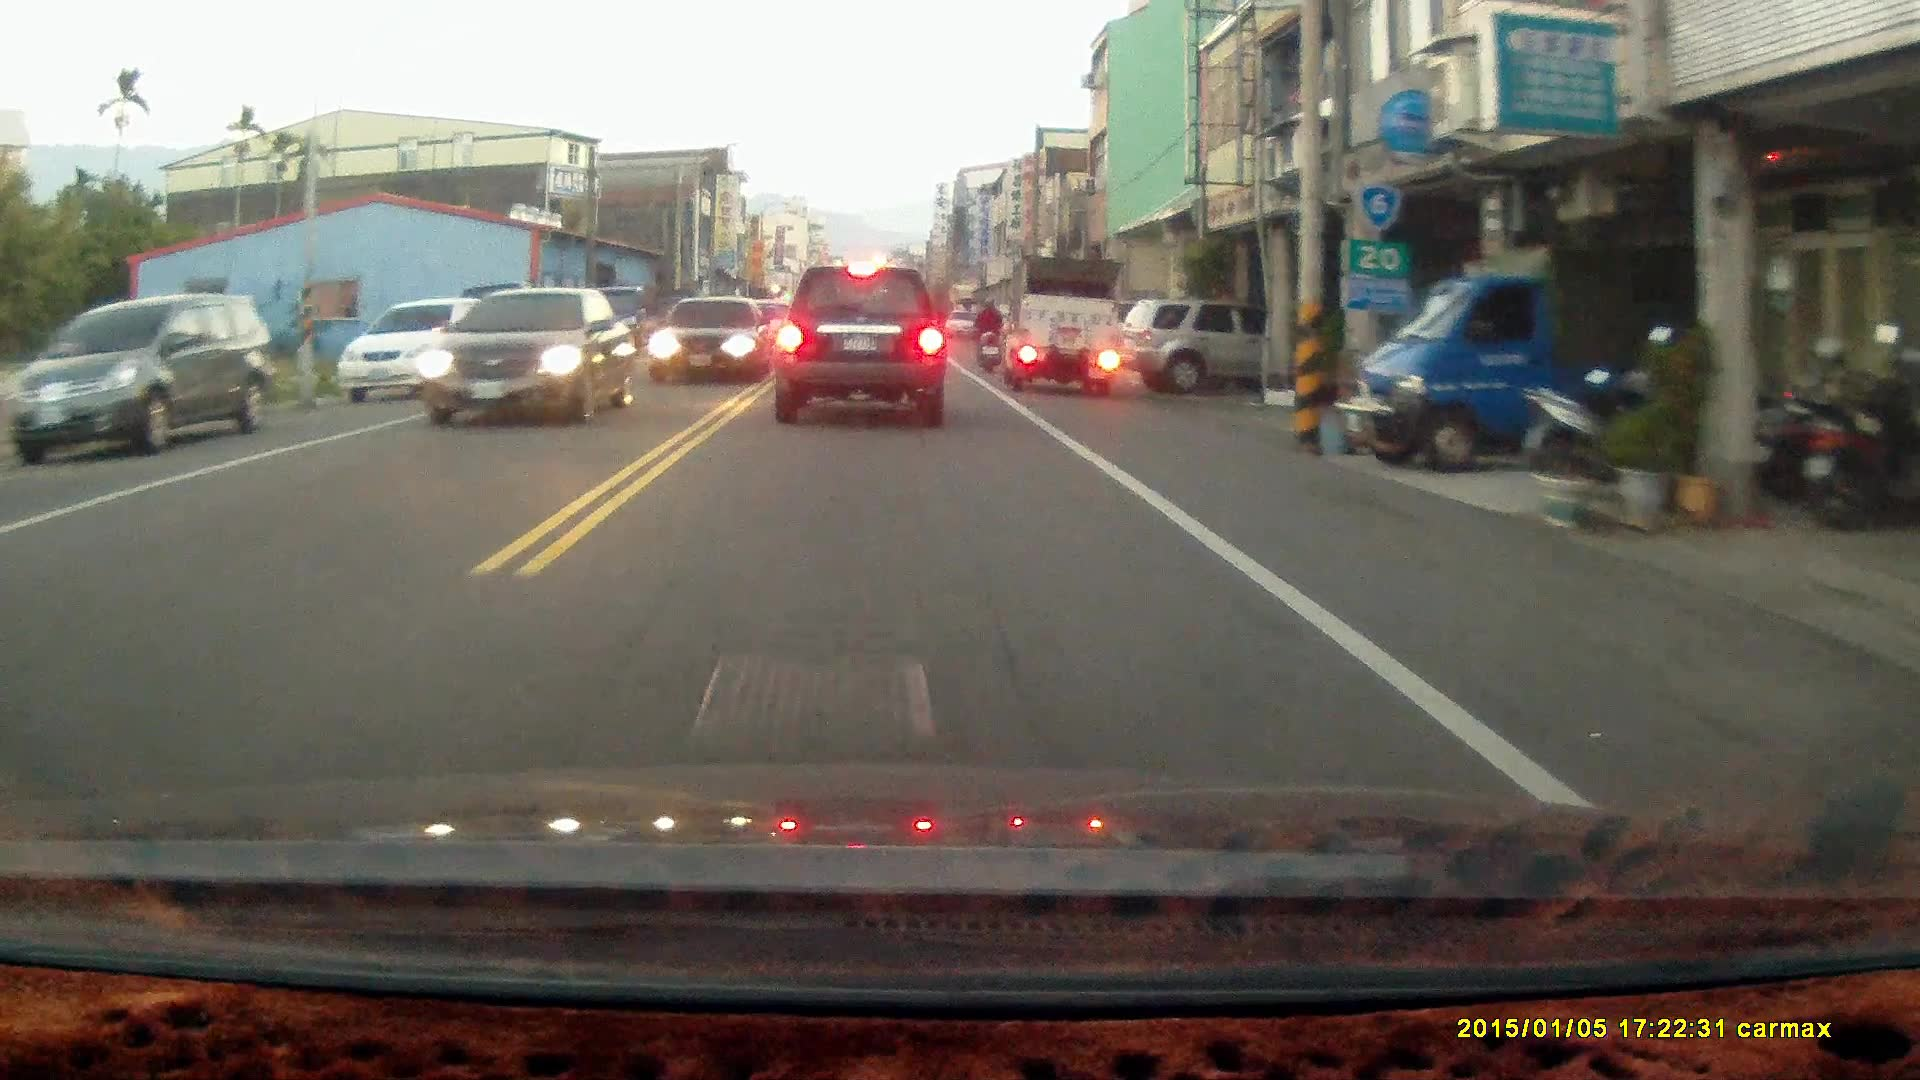rider: (972, 292, 1006, 370)
vehicle: (1356, 202, 1724, 471), (10, 289, 275, 456), (419, 287, 635, 425), (770, 262, 948, 429), (339, 297, 518, 412), (1013, 249, 1122, 388), (1122, 297, 1270, 397), (650, 298, 766, 383)
